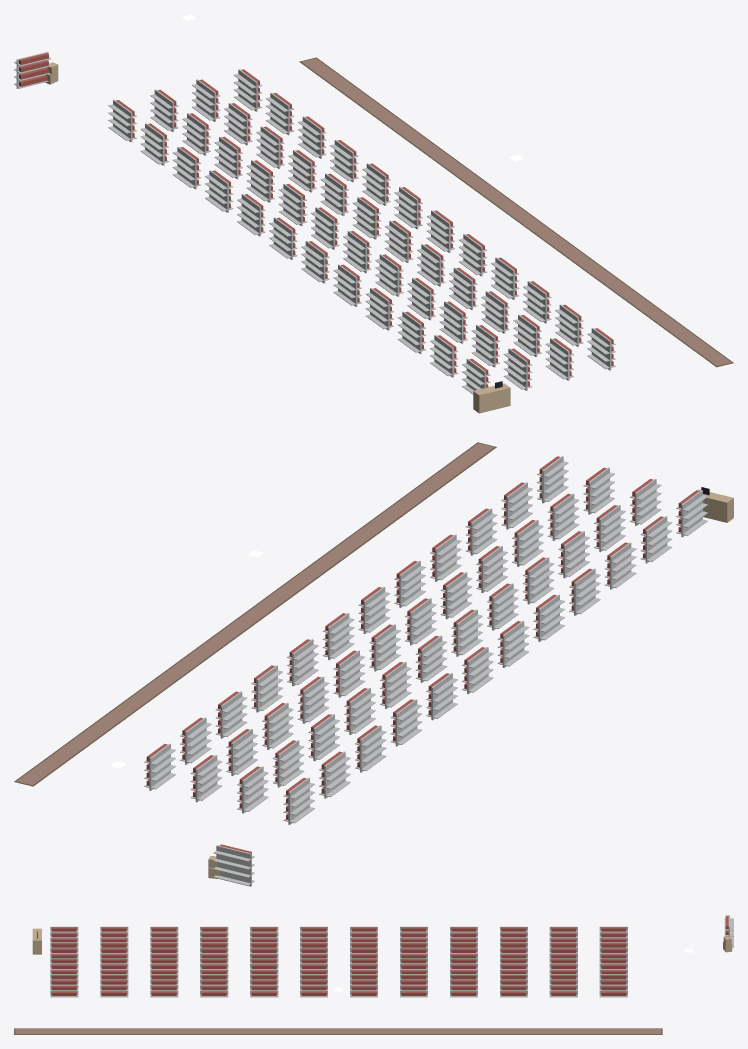
File: fine-s0.glb
3 renders of one model, top to bottom at view 1: azimuth 30°, elevation 25°; view 2: azimuth 150°, elevation 25°; view 3: azimuth 270°, elevation 25°, orthographic. The views are drawn at different scales.
Parts seen in each view (by area): view 1: soft-s0, shelving.000, shop-counter.000, shelf.019, shelf.026, shelf.005, shelf.040, shelf.047, shelf.004, shelf.010, shelf.012, shelf.025 (+39 smaller); view 2: soft-s0, shelving.000, shelf.017, shelf.027, shelf.034, shelf.042, shelf.006, shelf.012, shelf.029, shelf.019, shelf.047, shelf.002 (+39 smaller); view 3: soft-s0, shelf.036, shelf.037, shelf.043, shelf.044, shelf.045, shelf.046, shelf.047, shelf.038, shelf.039, shelf.040, shelf.041 (+39 smaller).
Boxes of the visible parts, x1,y1,x2,y2 form: soft-s0: (299,57,733,367); shelving.000: (14,52,51,88); shop-counter.000: (473,381,510,413); shelf.019: (375,254,403,296); shelf.026: (256,126,284,168); shelf.005: (269,217,297,259); shelf.040: (362,163,390,205); shelf.047: (587,328,615,370); shelf.004: (237,194,265,236); shelf.010: (430,335,458,377); shelf.012: (150,89,178,131); shelf.025: (224,103,252,145); soft-s0: (14,442,496,786); shelving.000: (213,844,254,886); shelf.017: (415,635,447,682); shelf.027: (297,676,329,723); shelf.034: (547,493,579,540); shelf.042: (358,587,390,633); shelf.006: (497,621,529,667); shelf.012: (237,766,268,813); shelf.029: (369,624,400,671); shelf.019: (487,583,518,630); shelf.047: (537,456,568,503); shelf.002: (355,725,386,772); soft-s0: (14,1028,662,1034); shelf.036: (599,974,627,997); shelf.037: (549,974,577,997); shelf.043: (250,974,278,997); shelf.044: (200,974,228,997); shelf.045: (150,974,178,997); shelf.046: (100,974,128,997); shelf.047: (50,974,78,997); shelf.038: (500,974,527,997); shelf.039: (450,974,477,997); shelf.040: (400,974,427,997); shelf.041: (350,974,377,997).
Size of the model in its own units: 14.75 by 3.02 by 46.12.
